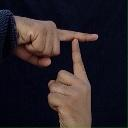hand: (7, 16, 98, 67), (47, 38, 92, 127)
